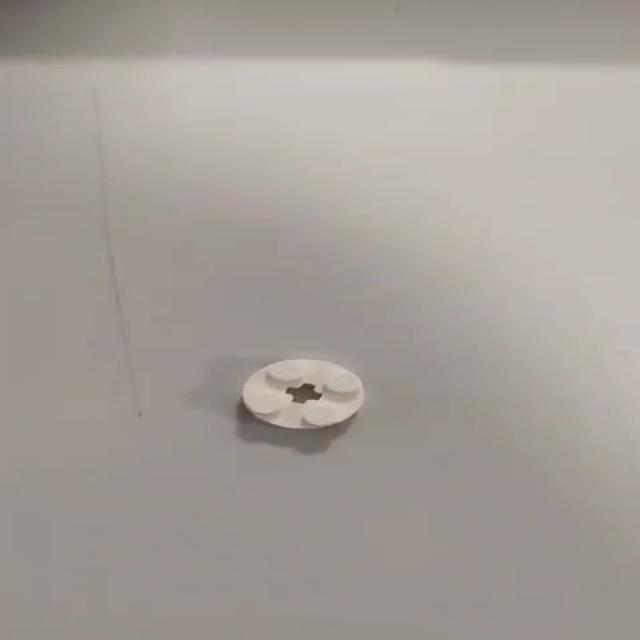S2x2x0: (238, 358, 366, 430)
